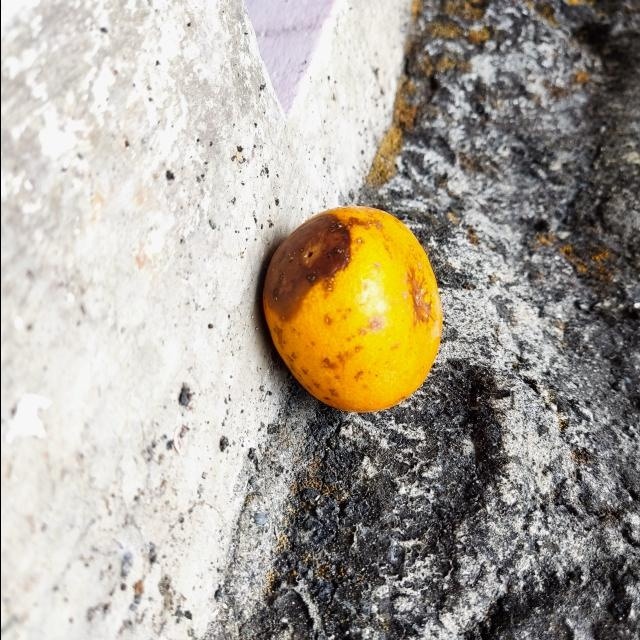agrume: (255, 205, 445, 415)
